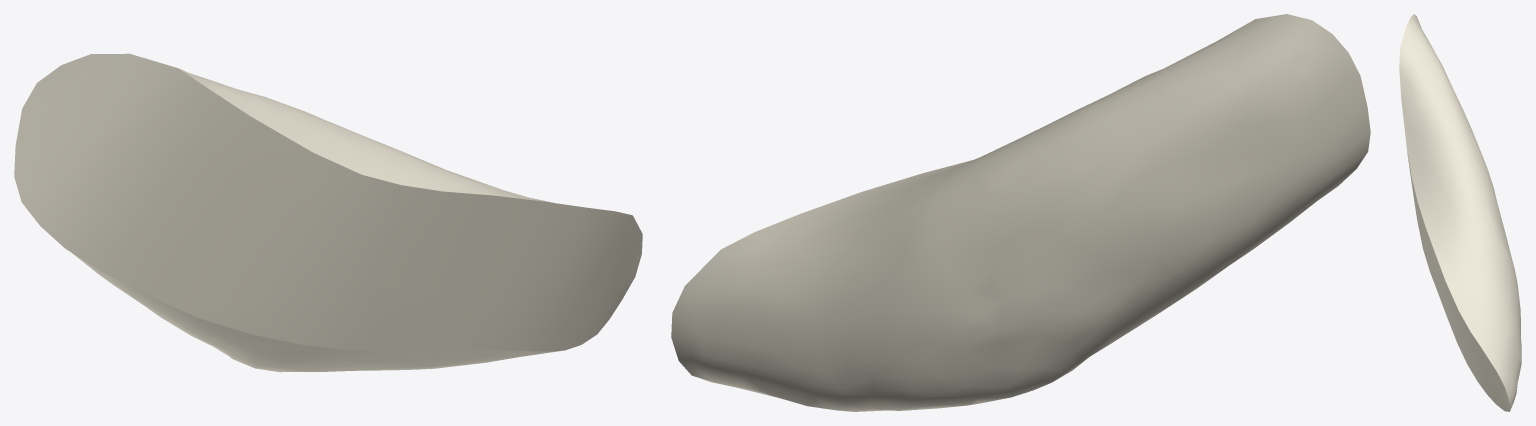
The model's file is fma23279_mm1523m.glb.
The picture shows the model from 3 angles, left to right: view 1: azimuth 30°, elevation 25°; view 2: azimuth 150°, elevation 25°; view 3: azimuth 270°, elevation 25°; orthographic projection. The views are drawn at different scales.
Visible parts, largest first — view 1: FMA23279_MM1523M; view 2: FMA23279_MM1523M; view 3: FMA23279_MM1523M.
Part boxes in pixels (x1,y1,x2,y2): FMA23279_MM1523M: (14,53,642,372); FMA23279_MM1523M: (671,14,1370,411); FMA23279_MM1523M: (1399,14,1521,411).
Bounding box in the file's own units: 0.0306 × 0.0202 × 0.00905.
